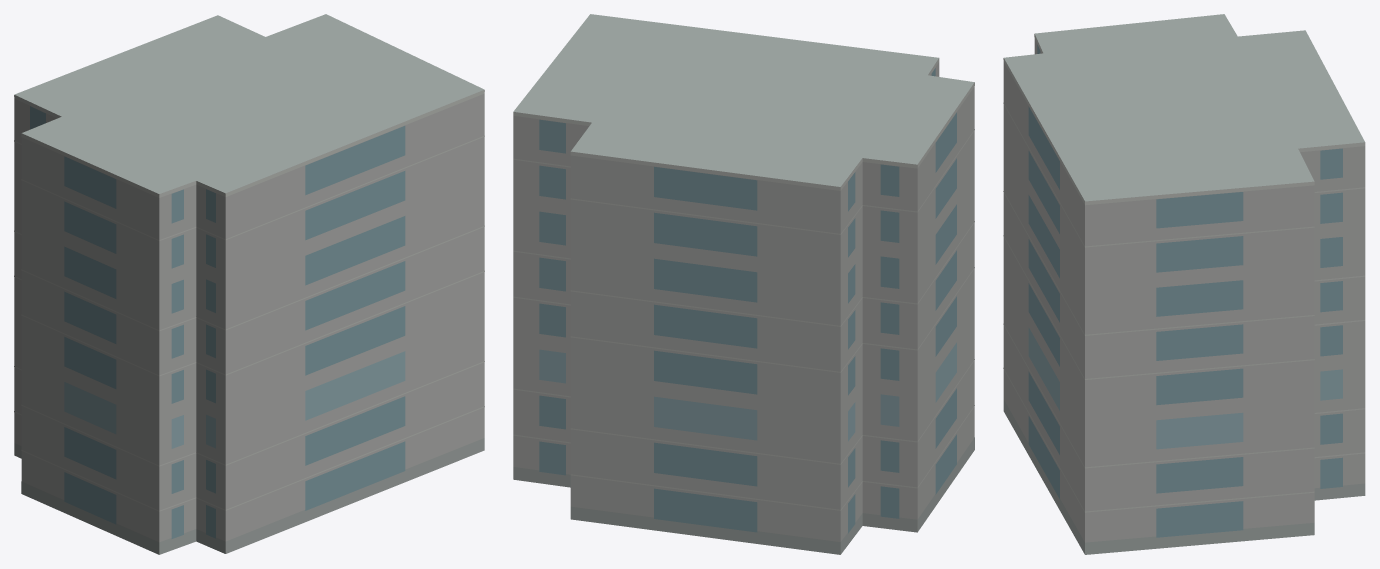
Rendered from survey-upis-32801735.glb.
3 renders of one model, left to right at view 1: azimuth 30°, elevation 25°; view 2: azimuth 150°, elevation 25°; view 3: azimuth 270°, elevation 25°, orthographic. The views are drawn at different scales.
Visible parts, largest first — view 1: survey-upis-32801735.tmp; view 2: survey-upis-32801735.tmp; view 3: survey-upis-32801735.tmp.
Part boxes in pixels (x1=…): survey-upis-32801735.tmp: x1=14, y1=14, x2=484, y2=554; survey-upis-32801735.tmp: x1=513, y1=14, x2=974, y2=554; survey-upis-32801735.tmp: x1=1003, y1=14, x2=1365, y2=554.
Size of the model in its own units: 25.96 by 22.8 by 21.17.
